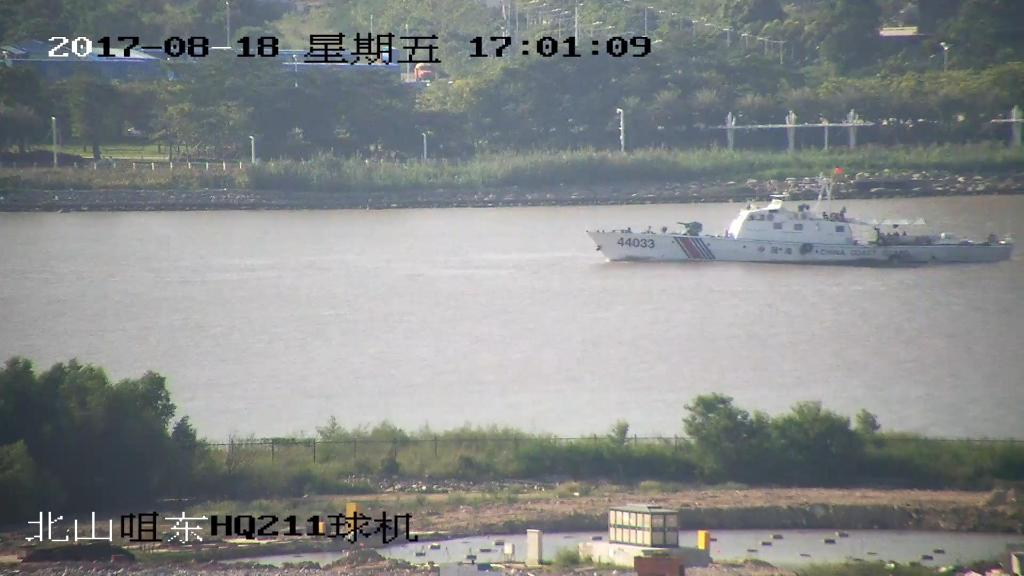Warship: (576, 171, 1024, 269)
